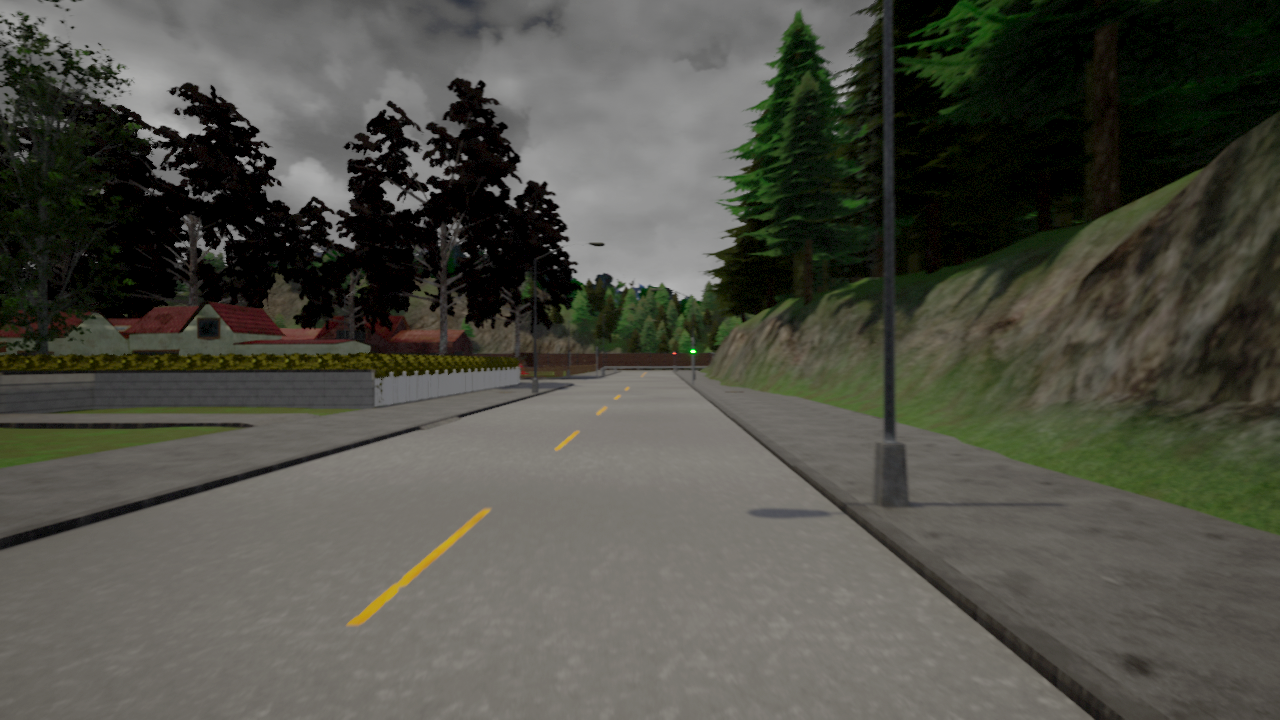green: (689, 341, 696, 355)
